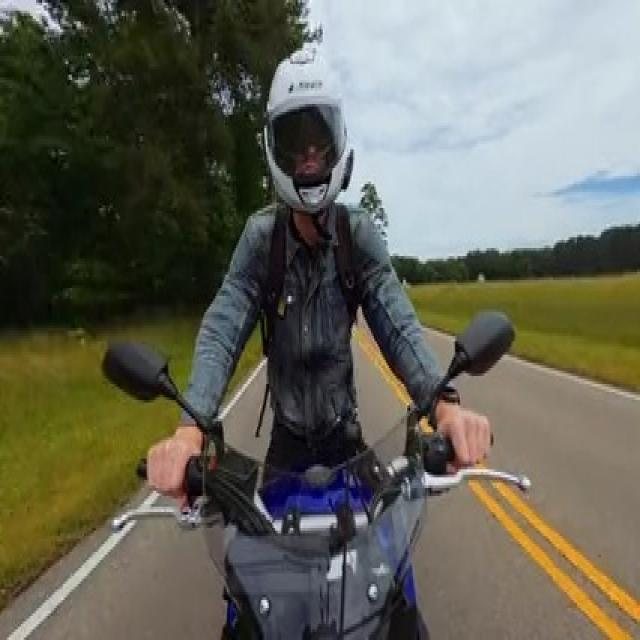Helmet_Wearer: (250, 31, 368, 210)
Person: (165, 44, 490, 497)
